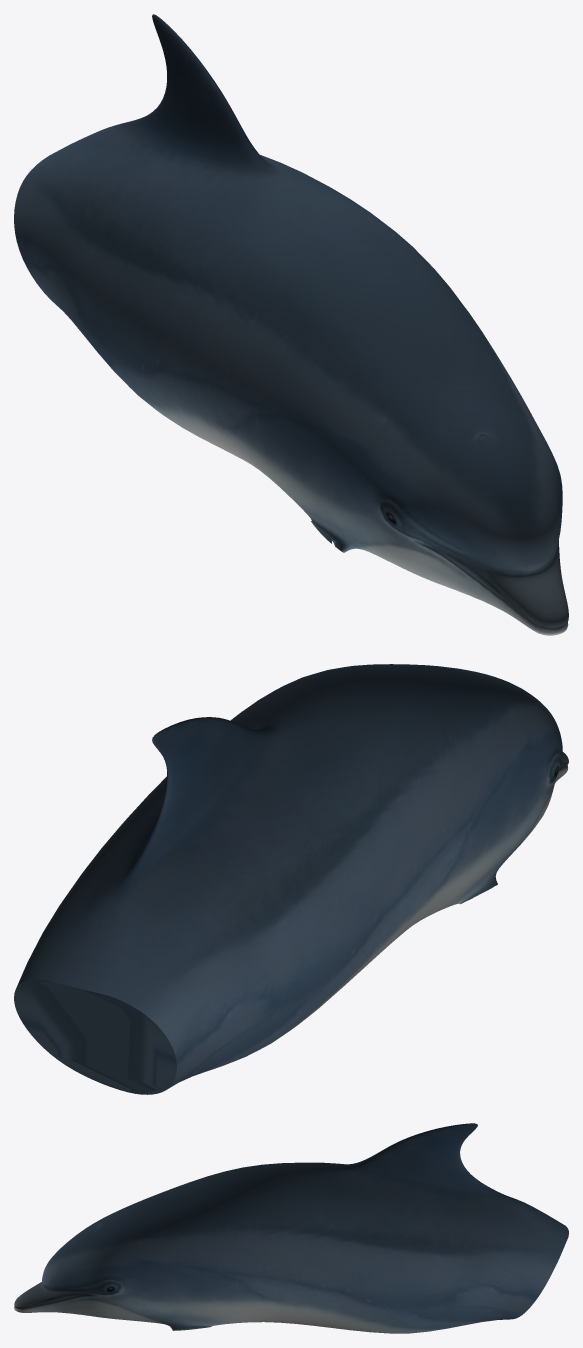
Rendered from Torso_delfin.obj.
3 views of the same model, one above another, from view 1: azimuth 30°, elevation 25°; view 2: azimuth 150°, elevation 25°; view 3: azimuth 270°, elevation 25° (orthographic). The views are drawn at different scales.
Visible parts, largest first — view 1: dolphin; view 2: dolphin; view 3: dolphin.
Part boxes in pixels (x1,y1,x2,y2): dolphin: [14, 14, 568, 635]; dolphin: [14, 664, 568, 1094]; dolphin: [14, 1123, 568, 1333].
Size of the model in its own units: 17.73 by 27.62 by 67.77.
2 materials, 2 textured.
